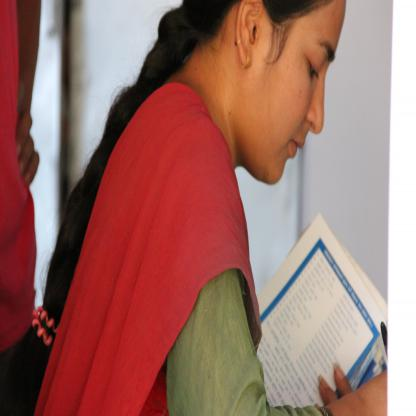book: (251, 211, 387, 407)
